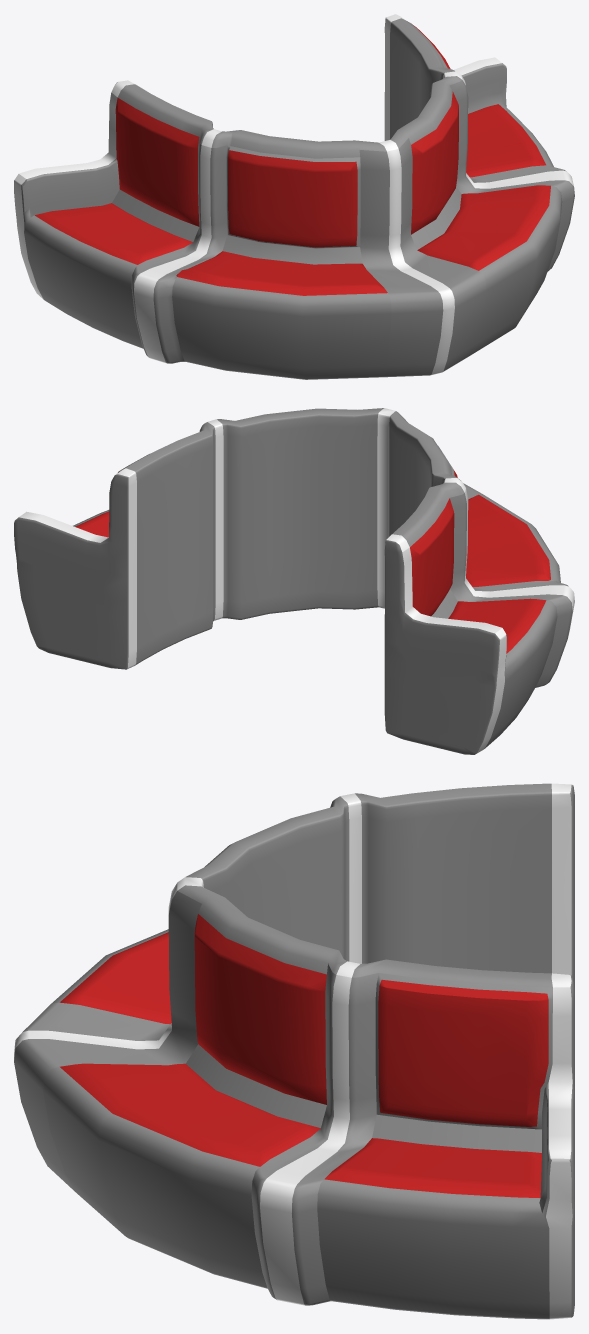
The model's file is Bench_Big.fbx.
3 renders of one model, top to bottom at view 1: azimuth 30°, elevation 25°; view 2: azimuth 150°, elevation 25°; view 3: azimuth 270°, elevation 25°, orthographic. The views are drawn at different scales.
Parts seen in each view (by area): view 1: Bench_Big; view 2: Bench_Big; view 3: Bench_Big.
Part boxes in pixels (x1,y1,x2,y2): Bench_Big: [14, 14, 574, 379]; Bench_Big: [14, 408, 574, 754]; Bench_Big: [14, 783, 574, 1319].
Bounding box in the file's own units: 4.1 × 1.6 × 2.83.
